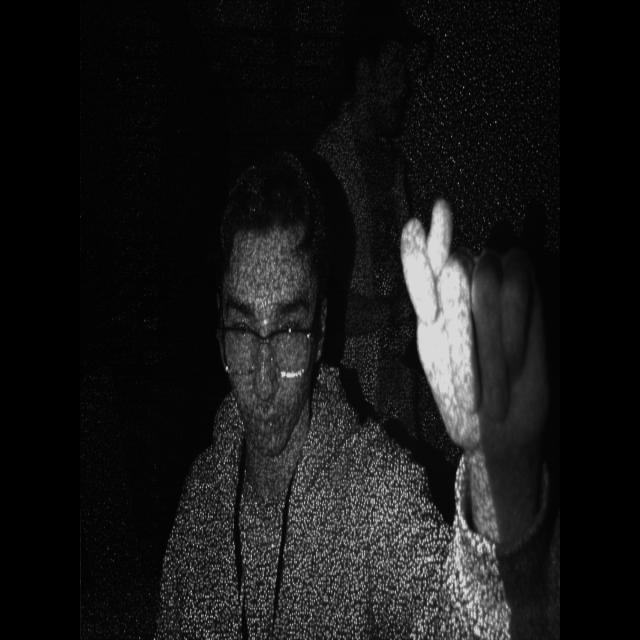T: (393, 178, 552, 457)
